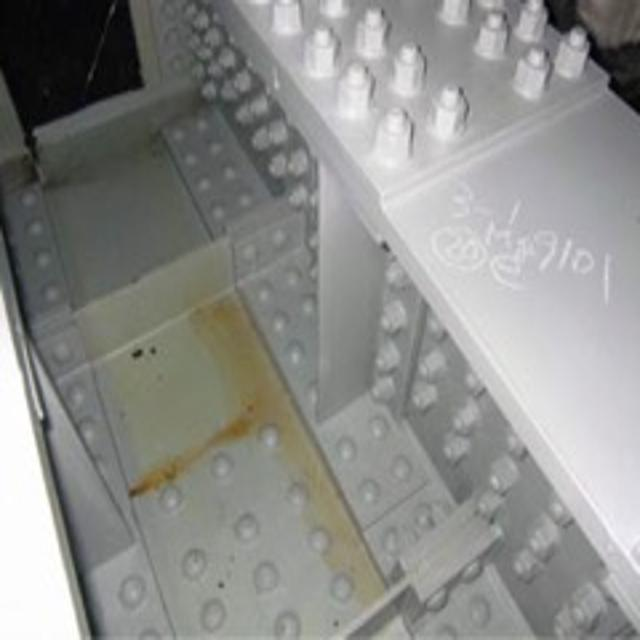leakage: (182, 279, 414, 617)
